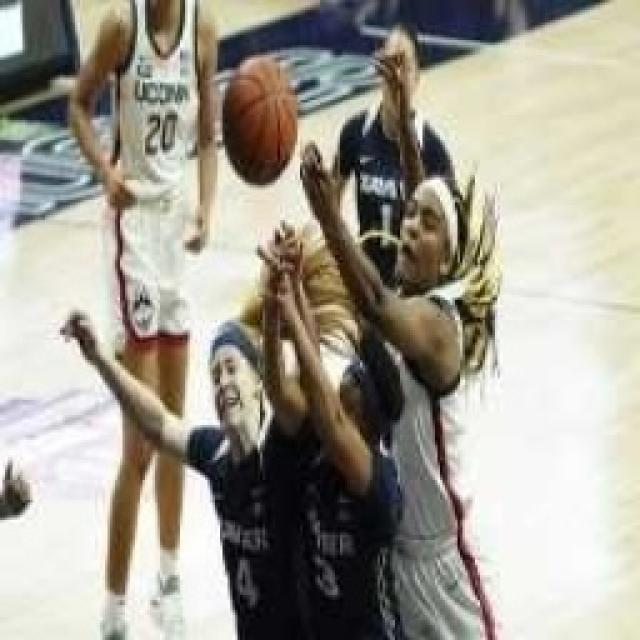basketball: (222, 51, 298, 185)
